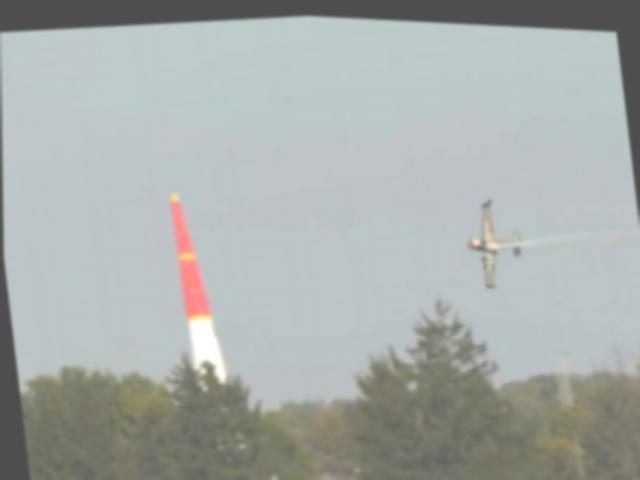uav: (457, 185, 532, 291)
